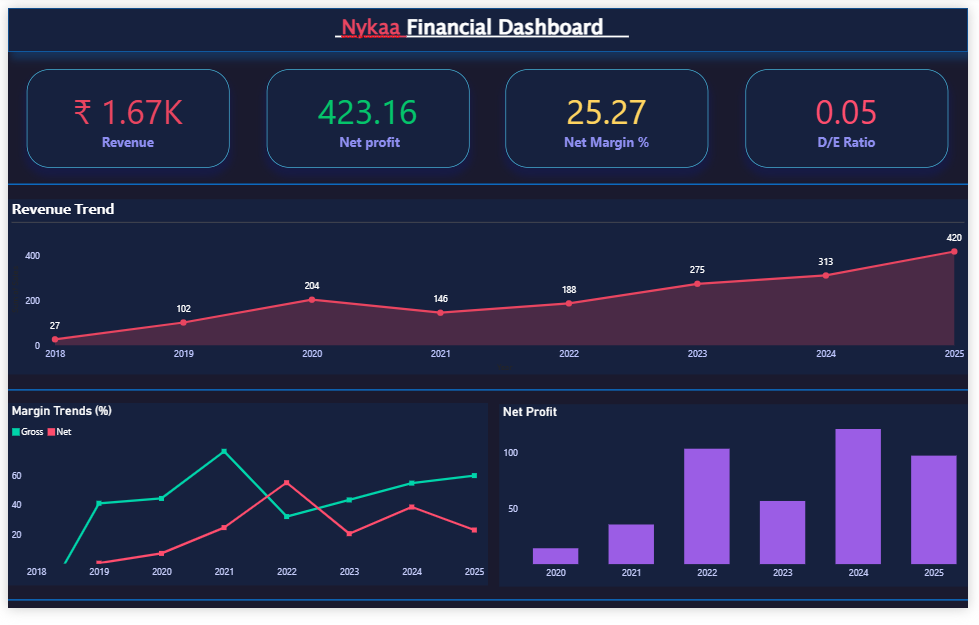

The page's visual inventory and layout, read from the dashboard file:
{"tool":"powerbi","page":{"name":"Page 1","canvas":[1280,800],"ordinal":0},"visuals":[{"type":"textbox","box":[0,0,1280,58.3],"z":0},{"type":"card","title":"Revenue","fields":{"Values":["master_annual.Total Revenue"]},"box":[25,81,270,131],"z":1000},{"type":"card","title":"Revenue","fields":{"Values":["master_annual.D/E Ratio"]},"box":[983.3,81,270,131],"z":2000},{"type":"card","title":"Revenue","fields":{"Values":["master_annual.Net Margin %"]},"box":[663.9,81,270,131],"z":3000},{"type":"card","title":"Revenue","fields":{"Values":["Sum(master_annual.Net_profit)"]},"box":[344.4,81,270,131],"z":4000},{"type":"shape","box":[0,160,1280,150],"z":5000},{"type":"lineChart","title":"Revenue Trend","fields":{"Category":["balance_sheet_enriched.Year"],"Y":["Sum(master_annual.Sales)"]},"box":[0,255,1280,233.3],"z":6000},{"type":"shape","box":[0,403.3,1280,211.7],"z":7000},{"type":"lineChart","title":"Margin Trends (%)","fields":{"Category":["balance_sheet_enriched.Year"],"Y":["Sum(master_annual.Gross_Margin_Pct)","Sum(master_annual.NPM_Pct)"]},"box":[0,526.7,640,243.3],"z":8000},{"type":"lineClusteredColumnComboChart","title":" Net Profit","fields":{"Category":["cash_flow_clean.Year"],"Y":["master_annual.Net Profit"]},"box":[655,528.3,625,243.3],"z":9000},{"type":"shape","box":[0,683.3,1280,211.7],"z":9001}]}

Visuals, with their boxes in screenshot pixels (x1, y1, x2, y2), scaled from the page's 1280x800 canvas onto the 979x625 screenshot:
textbox: [0,0,978,46]
"Revenue" card: [19,63,226,166]
"Revenue" card: [752,63,959,166]
"Revenue" card: [508,63,714,166]
"Revenue" card: [263,63,470,166]
shape: [0,125,978,242]
"Revenue Trend" lineChart: [0,199,978,381]
shape: [0,315,978,480]
"Margin Trends (%)" lineChart: [0,411,490,602]
" Net Profit" lineClusteredColumnComboChart: [501,413,978,603]
shape: [0,534,978,624]
